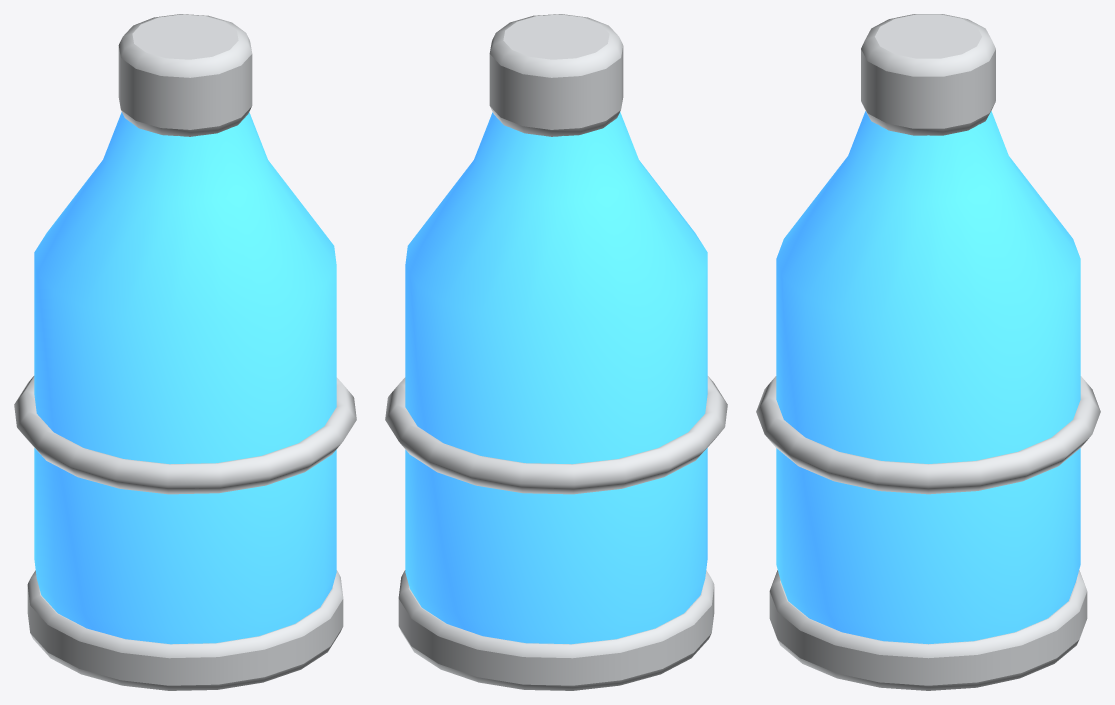
File: item_shield_cell.glb
3 views of the same model, side by side, from view 1: azimuth 30°, elevation 25°; view 2: azimuth 150°, elevation 25°; view 3: azimuth 270°, elevation 25° (orthographic).
Parts seen in each view (by area): view 1: item_shield_cell; view 2: item_shield_cell; view 3: item_shield_cell.
Boxes of the visible parts, x1,y1,x2,y2 form: item_shield_cell: (14,14,356,690); item_shield_cell: (385,14,727,690); item_shield_cell: (756,14,1100,690).
Bounding box in the file's own units: 0.102 × 0.193 × 0.102.
